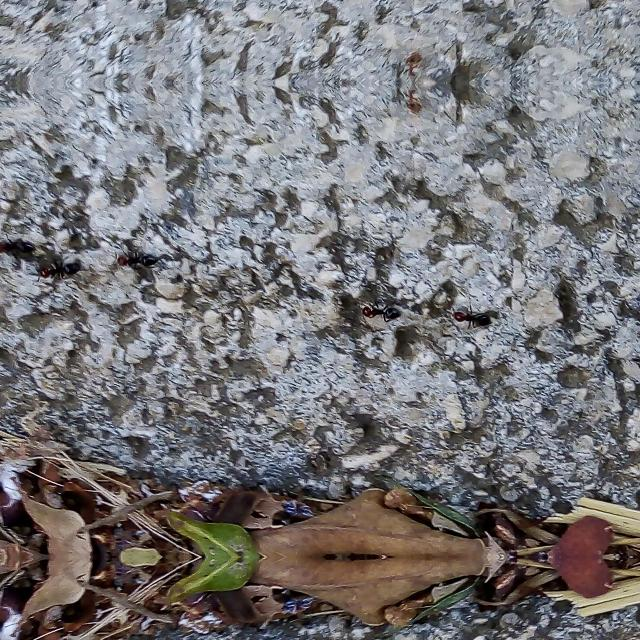Crematogaster: (34, 258, 82, 286), (452, 305, 494, 335), (354, 298, 400, 324), (115, 248, 158, 272), (0, 232, 34, 259)
